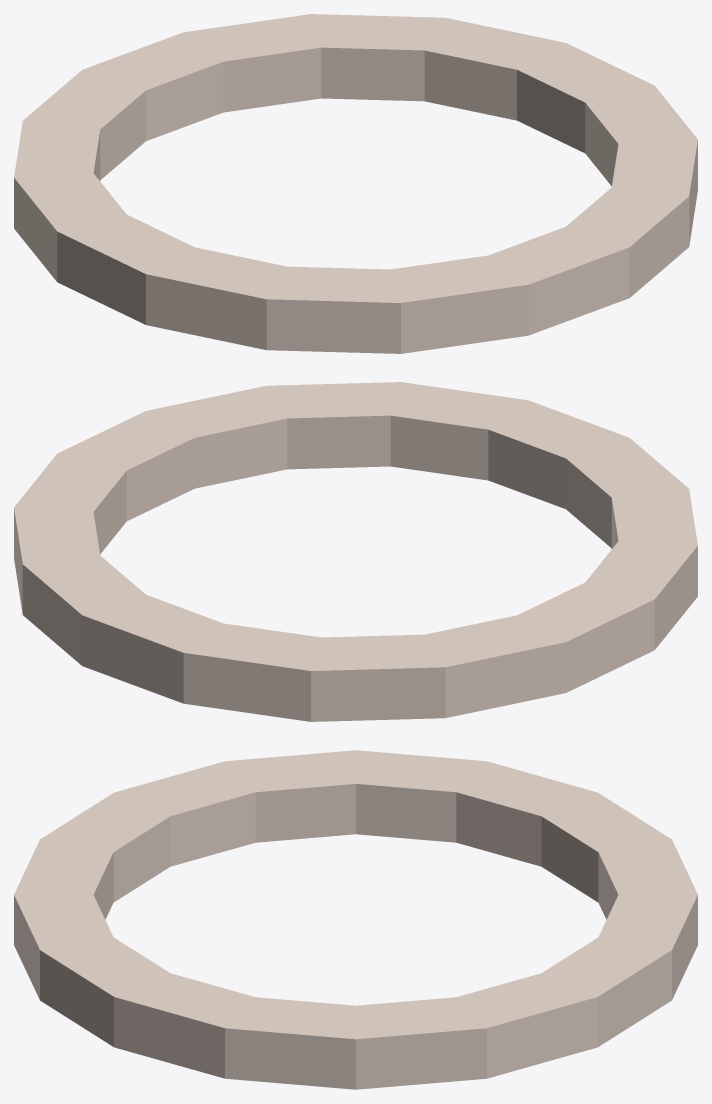
The model's file is OnionRing.glb.
3 views of the same model, one above another, from view 1: azimuth 30°, elevation 25°; view 2: azimuth 150°, elevation 25°; view 3: azimuth 270°, elevation 25° (orthographic).
Visible parts, largest first — view 1: OnionRing; view 2: OnionRing; view 3: OnionRing.
Boxes of the visible parts, x1,y1,x2,y2 form: OnionRing: [14, 14, 697, 353]; OnionRing: [14, 382, 697, 721]; OnionRing: [14, 750, 697, 1089].
Bounding box in the file's own units: 0.086 × 0.007 × 0.086.
